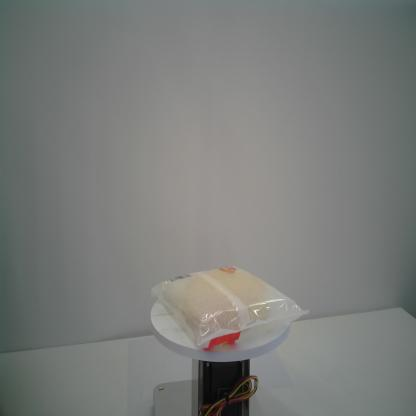Dessert: (150, 263, 312, 353)
